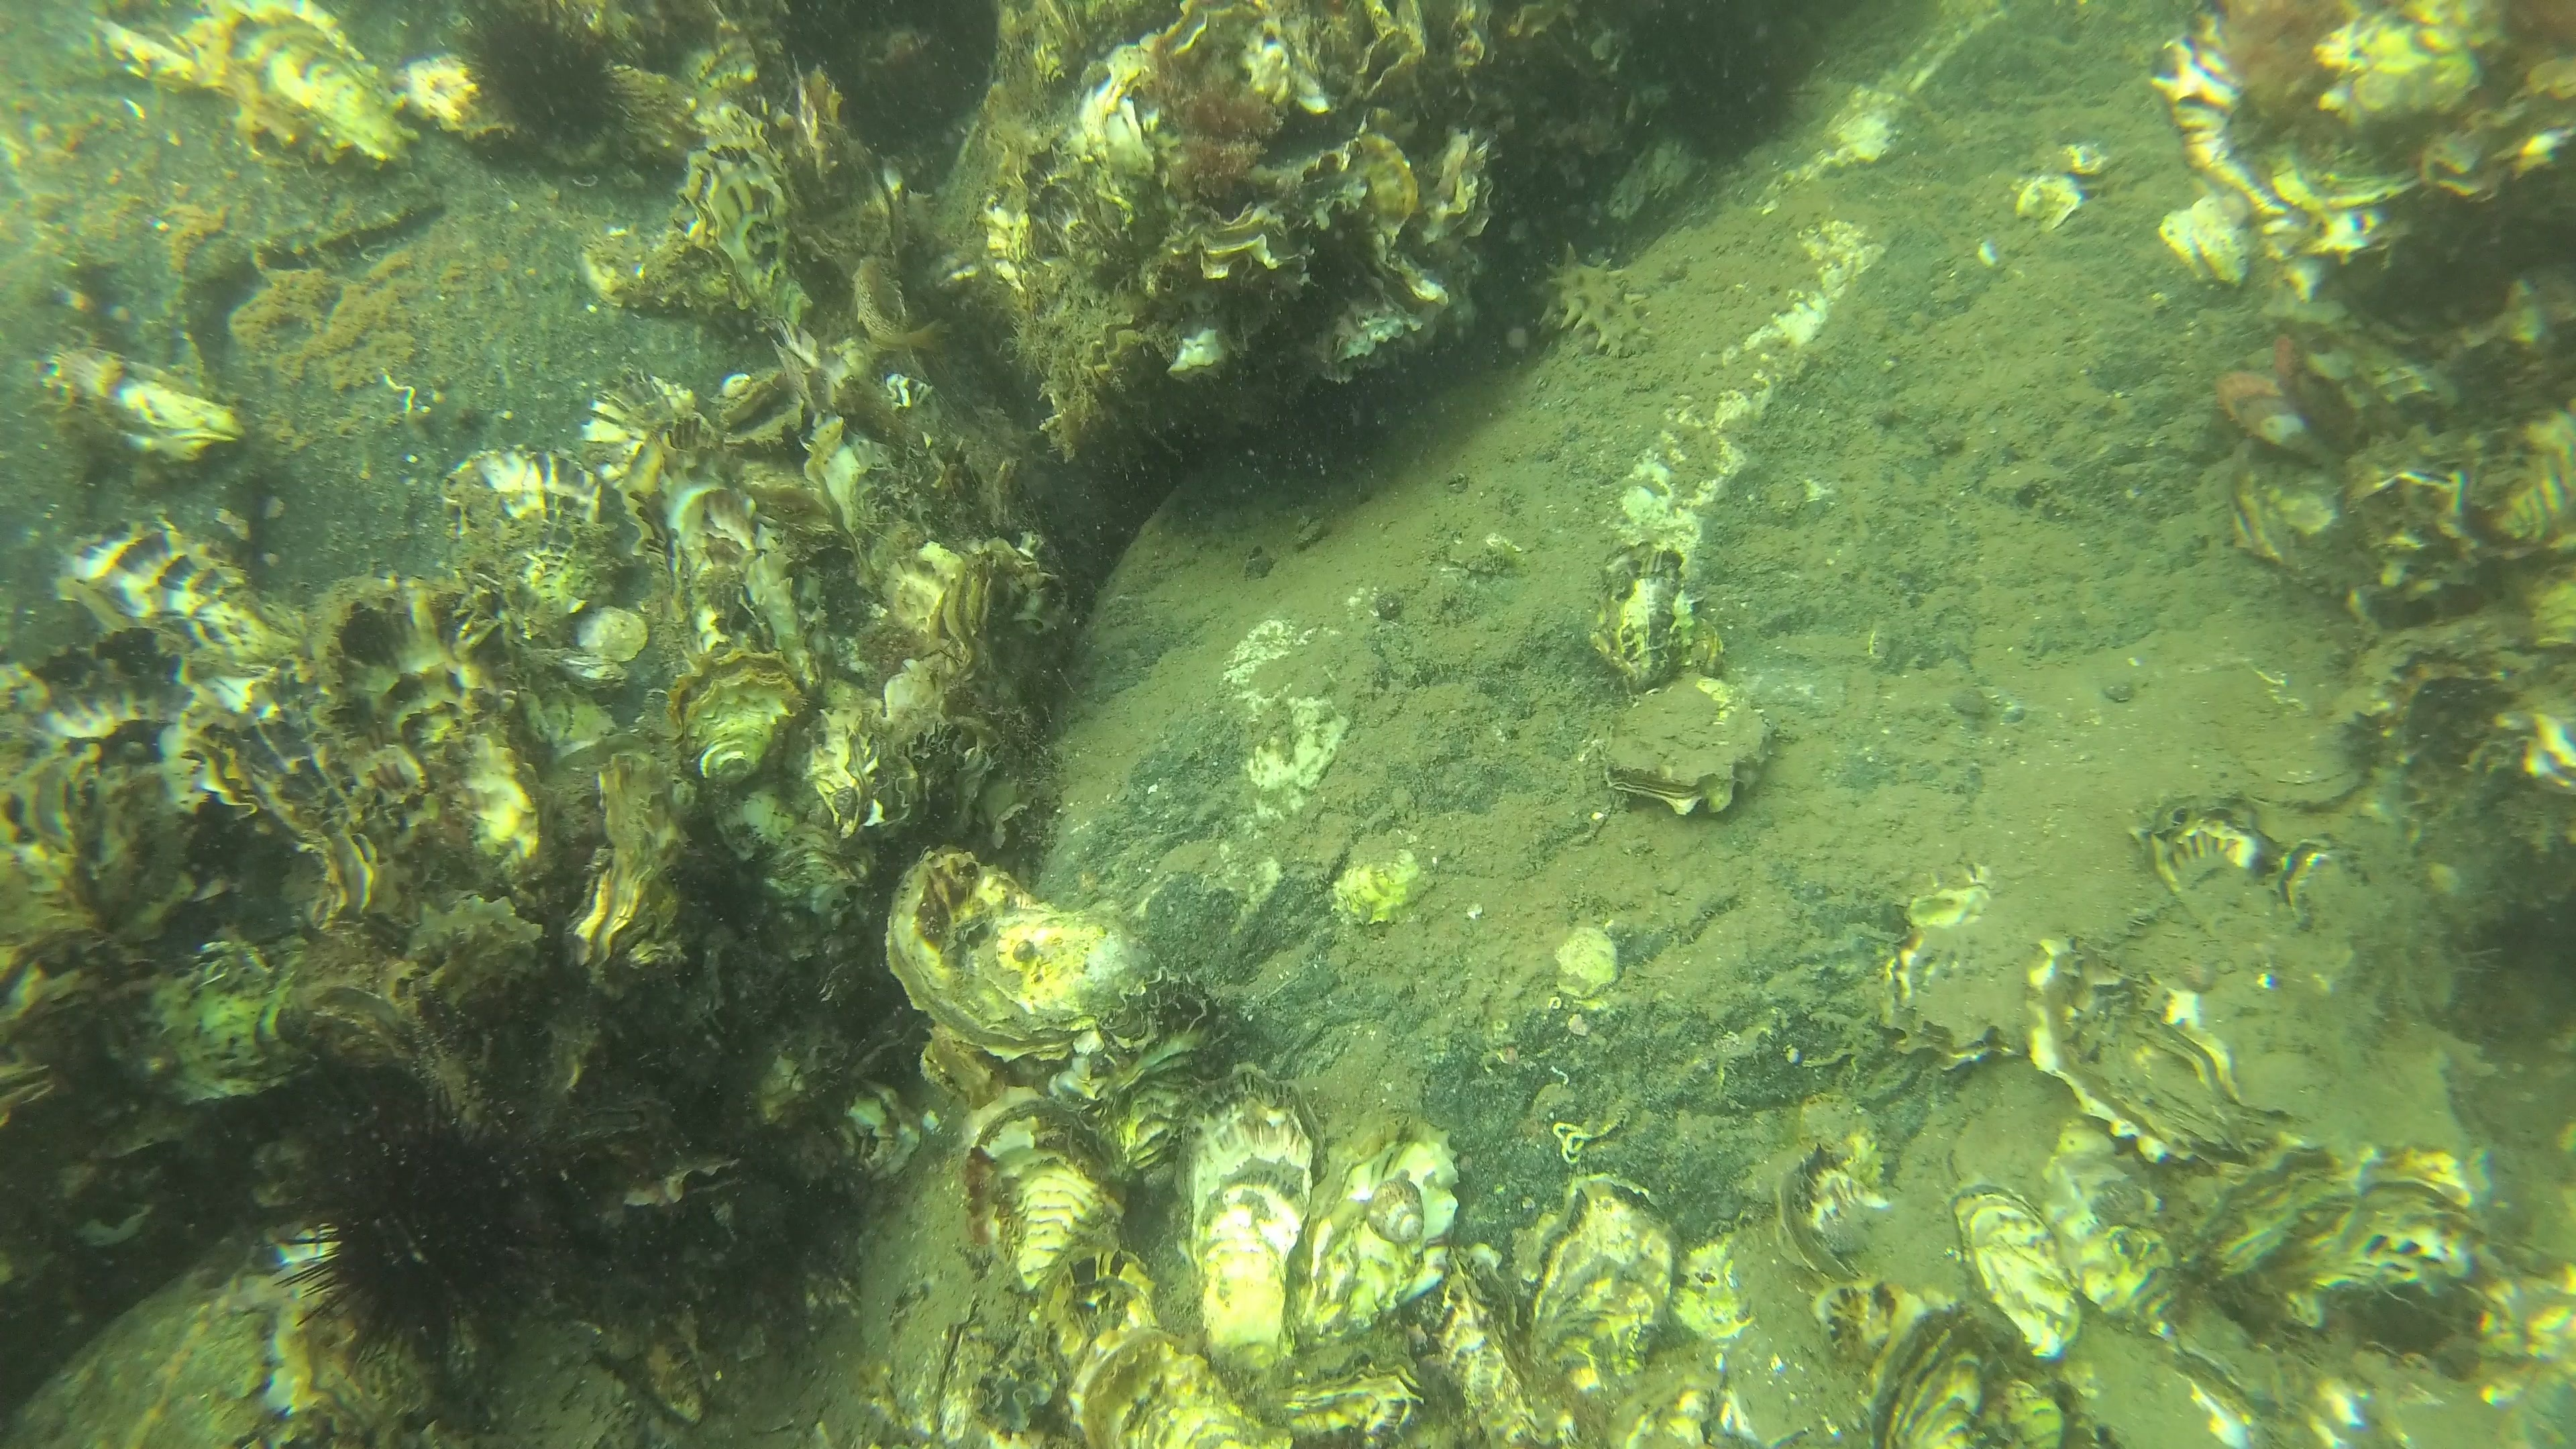echinus: (285, 1116, 520, 1376), (458, 5, 633, 142), (1660, 28, 1810, 166)
holothurian: (1541, 244, 1647, 352)
